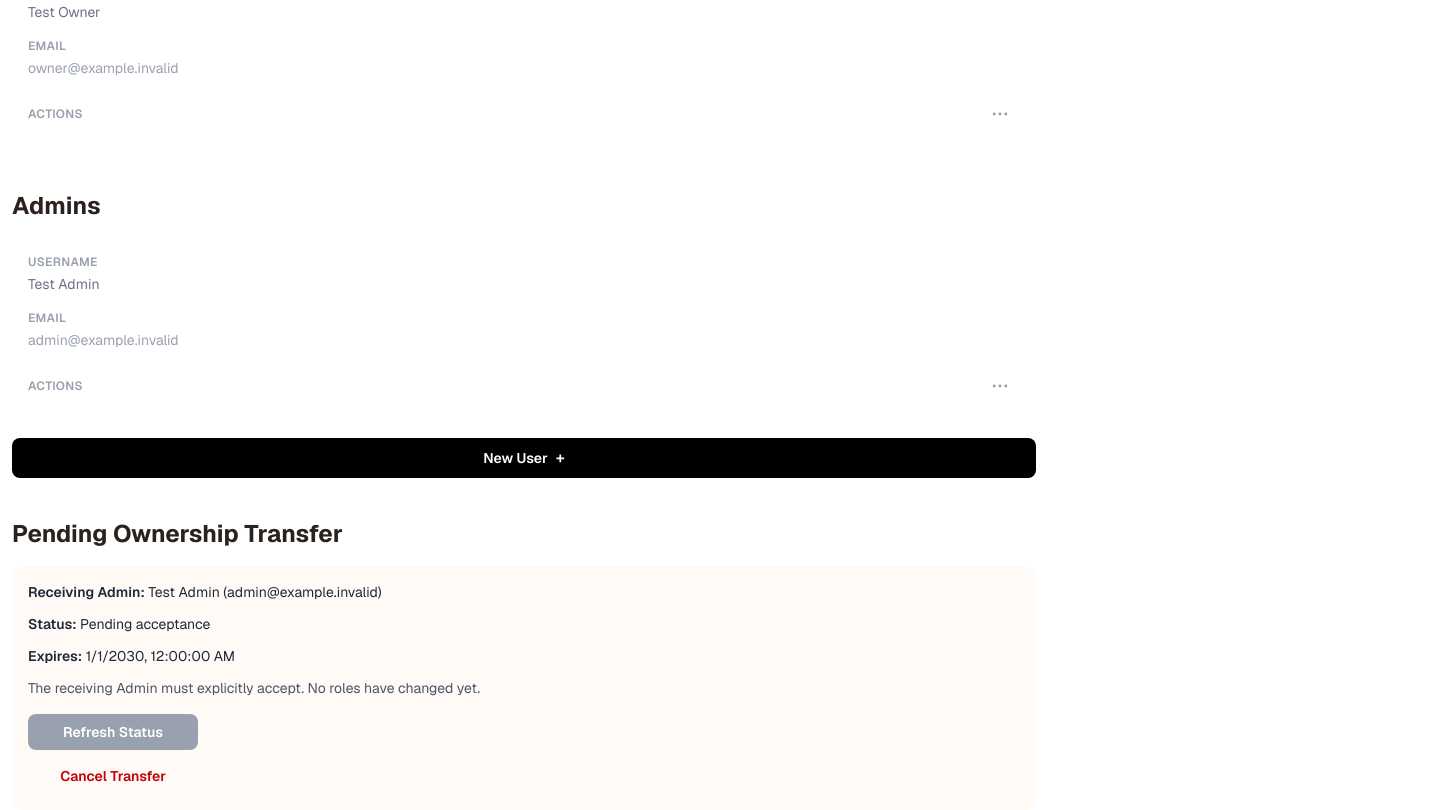
Admin page pending ownership-transfer controls › hides the pending section after Refresh Status confirms resolution
(page scrolled)
Check: the heading "Pending Ownership Transfer" is shown, box [12,518,343,549]
Click the button "Refresh Status": (113, 732) [28,714,198,750]
(page scrolled)
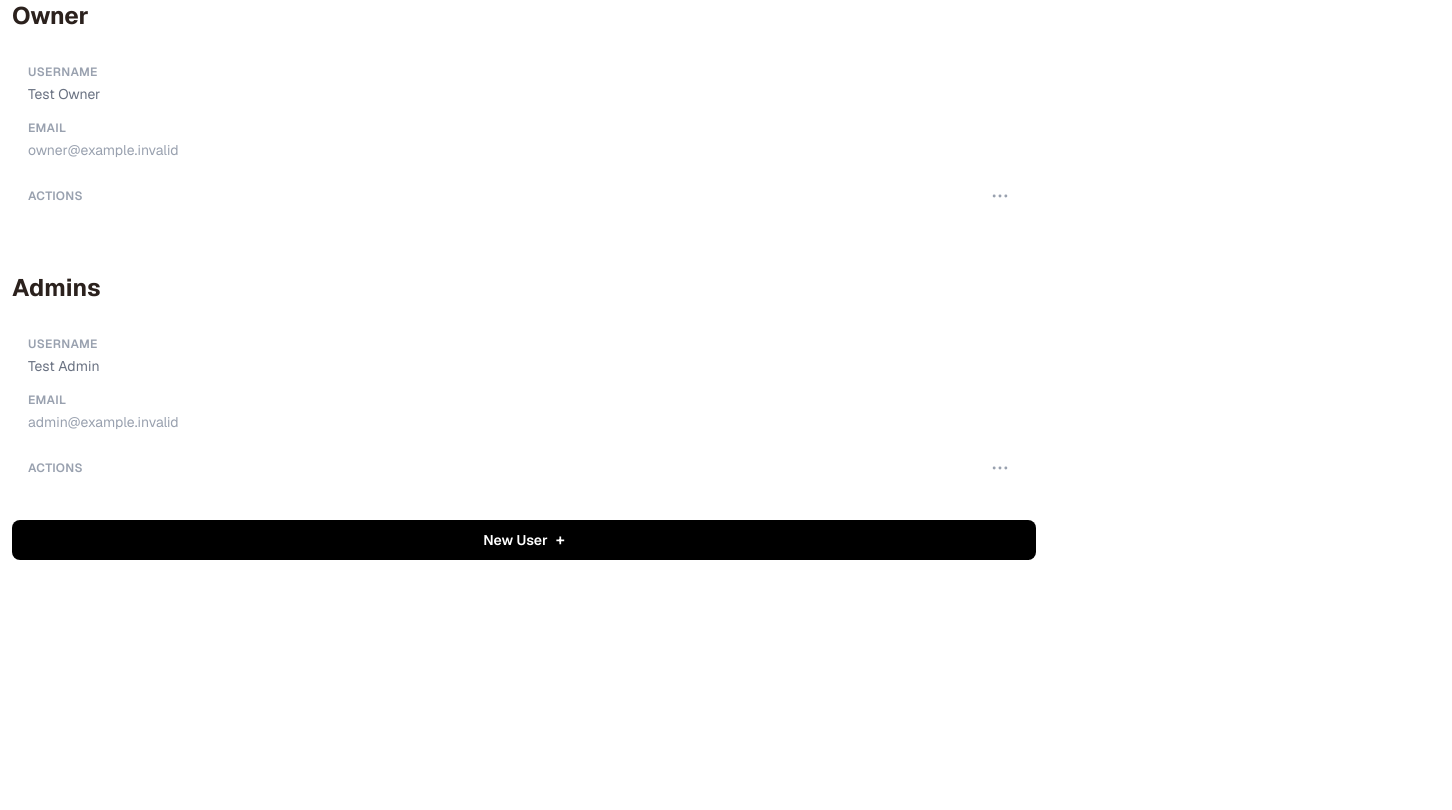
Check: the heading "Pending Ownership Transfer" is gone
Check: the button "Cancel Transfer" is gone
